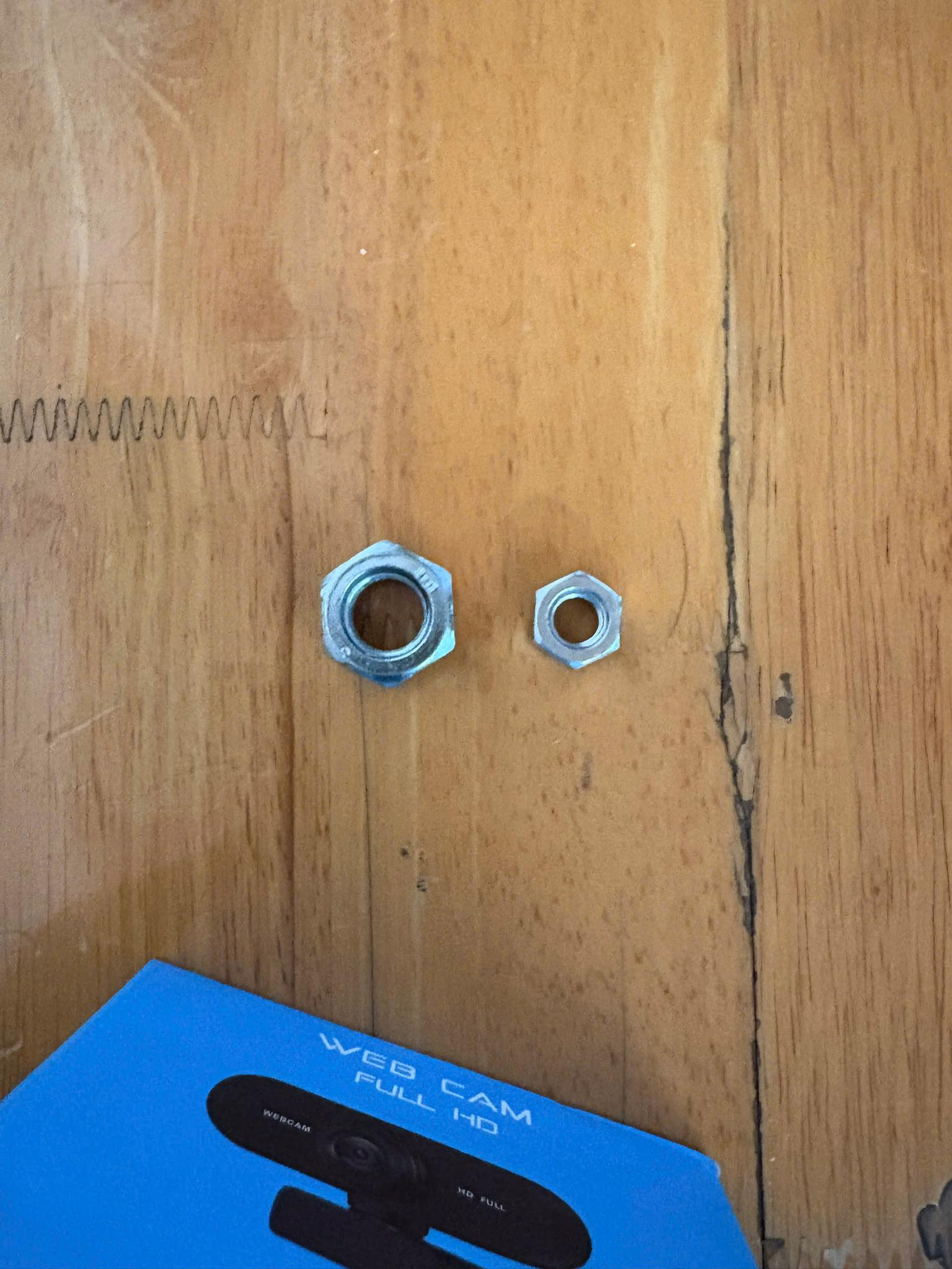nut: (283, 528, 476, 708), (506, 571, 658, 678)
